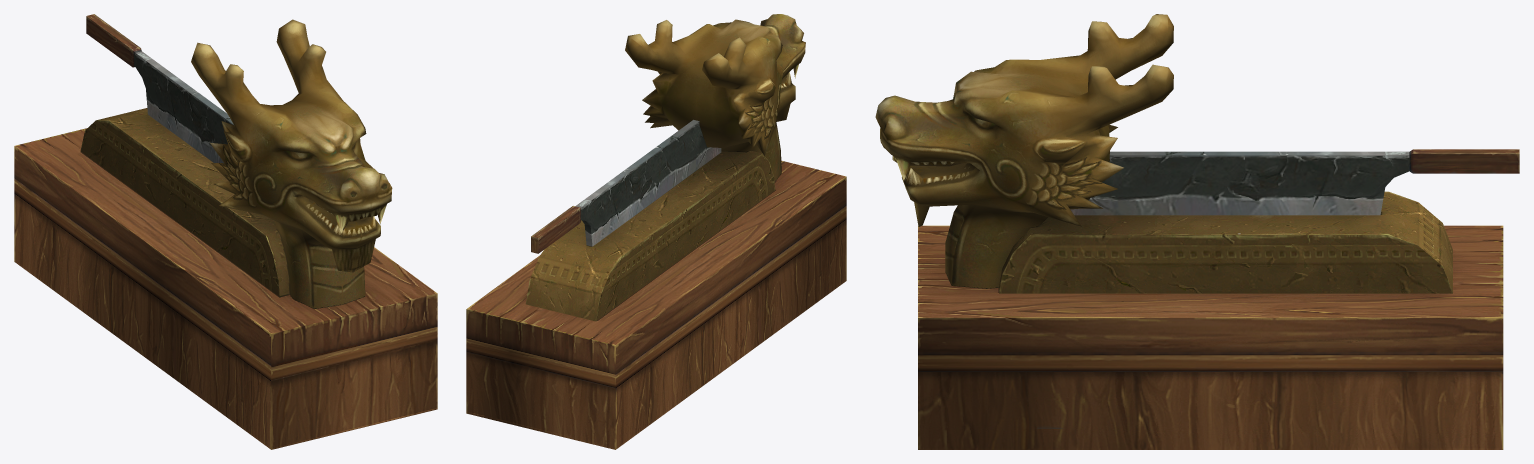
The model's file is Stage_DiXiaCheng_LongTouZa.FBX.
3 views of the same model, side by side, from view 1: azimuth 30°, elevation 25°; view 2: azimuth 150°, elevation 25°; view 3: azimuth 270°, elevation 25° (orthographic). The views are drawn at different scales.
Parts seen in each view (by area): view 1: Stage_DiXiaCheng_LongTouZa; view 2: Stage_DiXiaCheng_LongTouZa; view 3: Stage_DiXiaCheng_LongTouZa.
Boxes of the visible parts, x1,y1,x2,y2 form: Stage_DiXiaCheng_LongTouZa: (14, 14, 437, 449); Stage_DiXiaCheng_LongTouZa: (466, 14, 846, 449); Stage_DiXiaCheng_LongTouZa: (875, 14, 1519, 449).
Size of the model in its own units: 73.4 by 135 by 216.
